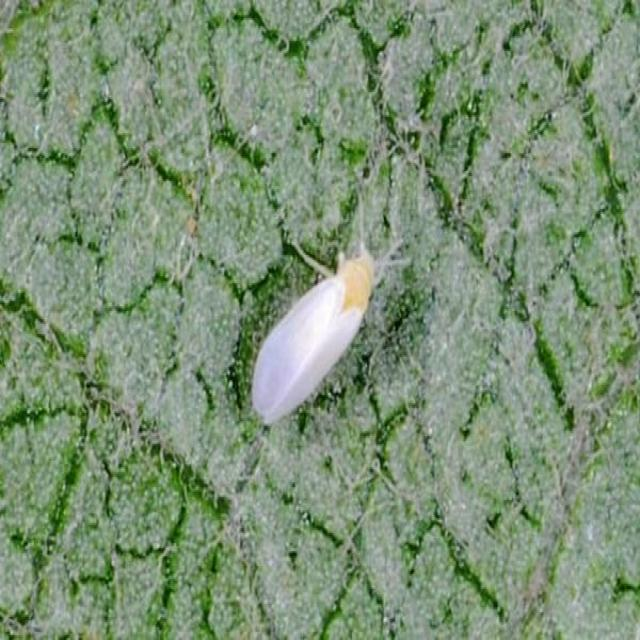Whitefly: (238, 163, 417, 442)
